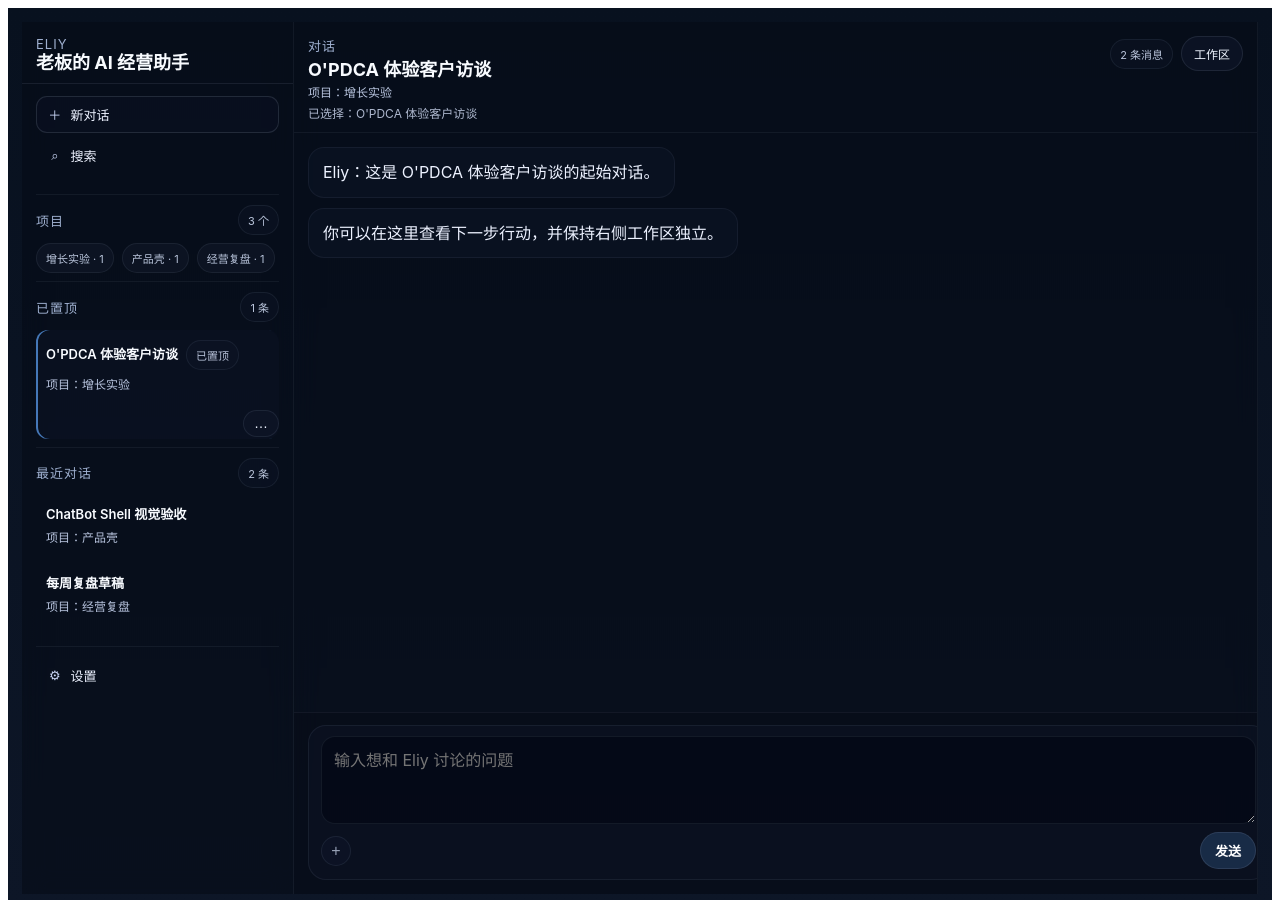
Test: AssistantUiChatbotShell › shows the simplified brand and navigation
Expected: the element with test id "left-workspace" shows "Eliy", [36,36,68,52]
Expected: the element with test id "left-workspace" shows "老板的 AI 经营助手", [36,52,189,73]
Click the button with test id "workspace-item-search" at (158, 156), box [36,137,279,174]
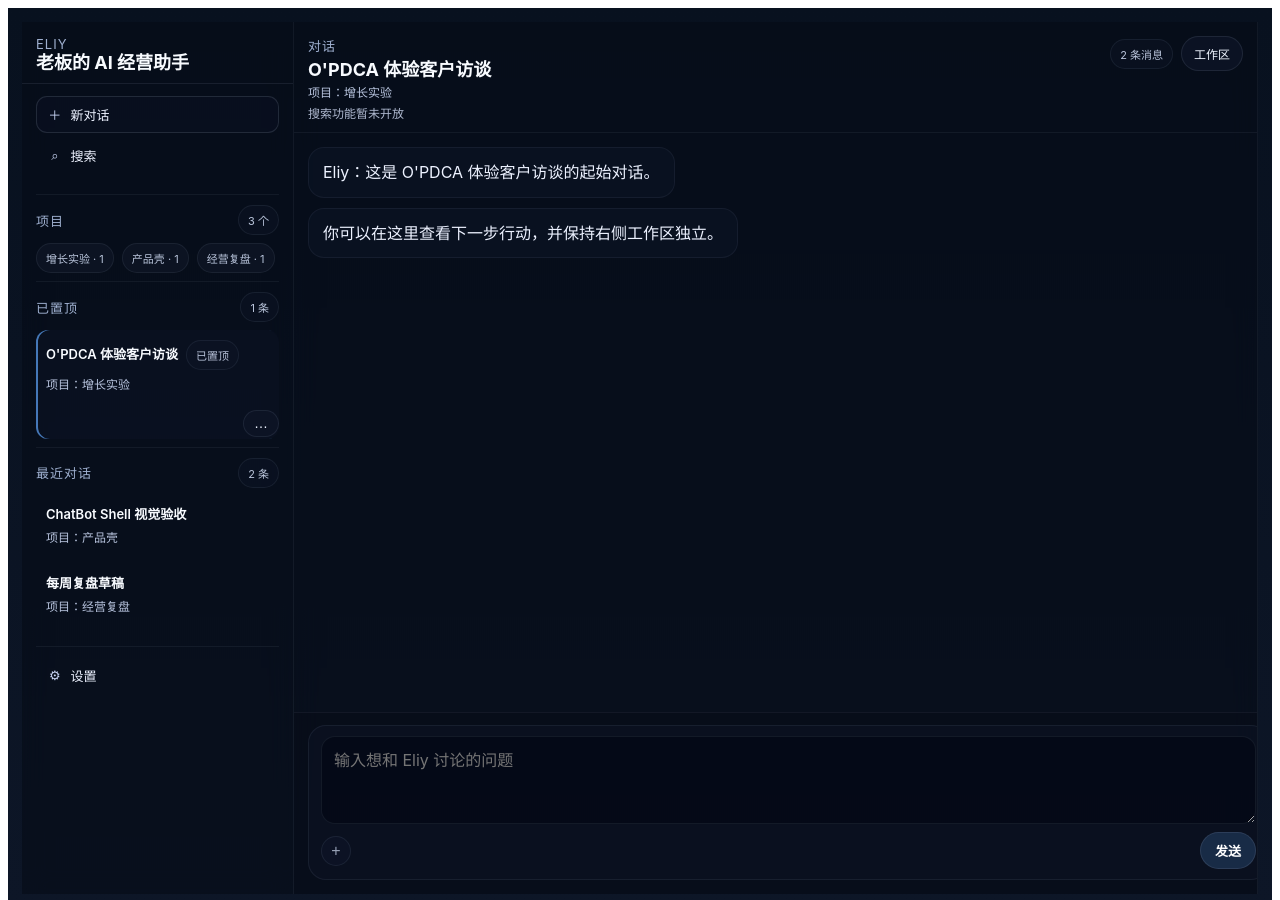
Result: the text with test id "chat-action-feedback" reads "搜索功能暂未开放" at [308,106,404,121]
Click the button with test id "workspace-item-settings" at (158, 675), box [36,656,279,694]
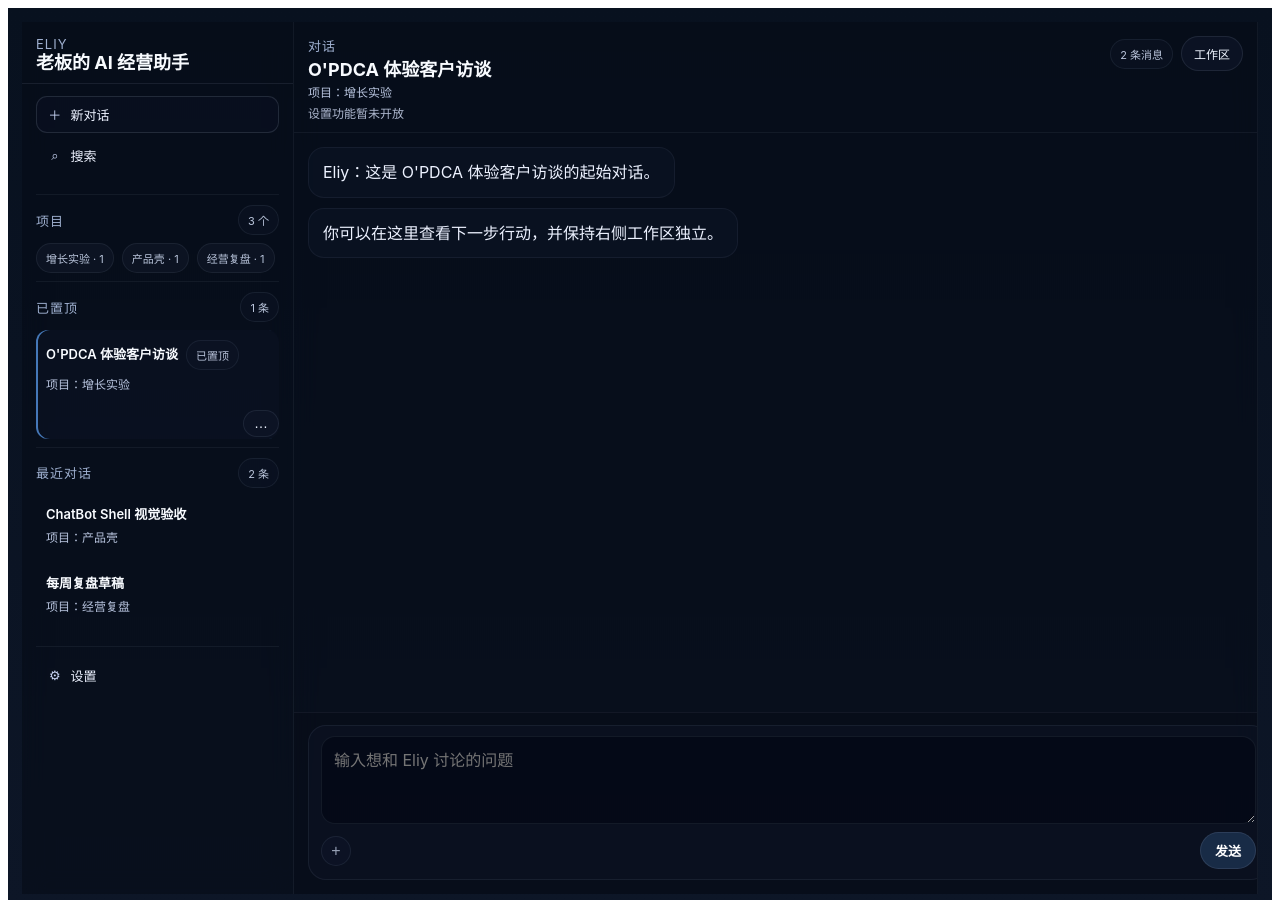
Result: the text with test id "chat-action-feedback" reads "设置功能暂未开放" at [308,106,404,121]
